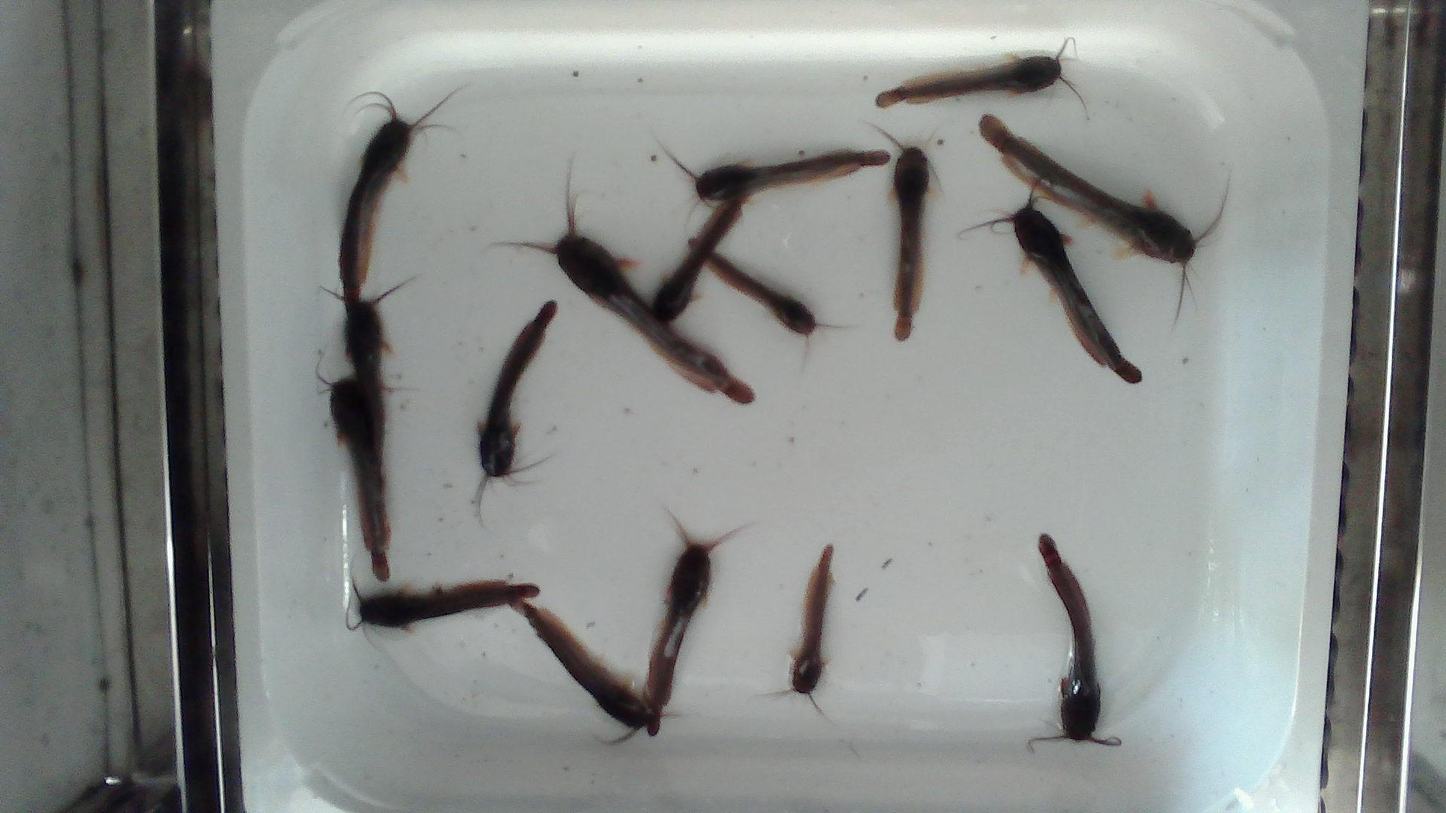lele: (503, 195, 753, 402), (980, 115, 1229, 319), (964, 188, 1139, 382), (338, 87, 458, 298), (646, 523, 750, 739), (655, 139, 890, 226), (475, 300, 557, 512), (517, 603, 652, 726), (706, 253, 854, 360), (320, 280, 404, 461), (877, 38, 1087, 107), (1039, 534, 1104, 741), (651, 187, 746, 321), (331, 377, 389, 581), (765, 544, 833, 714), (878, 124, 929, 340), (359, 580, 539, 627)
